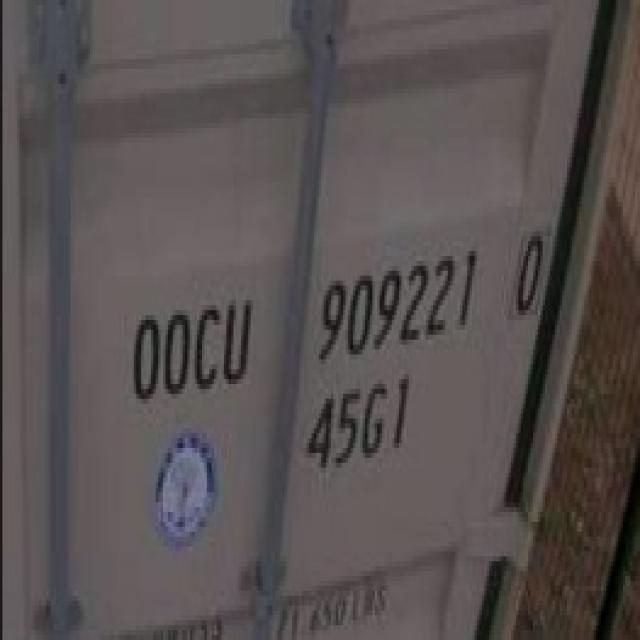dv: (513, 225, 546, 331)
owner: (119, 284, 256, 408)
serial: (312, 235, 478, 366)
size: (301, 372, 414, 486)
